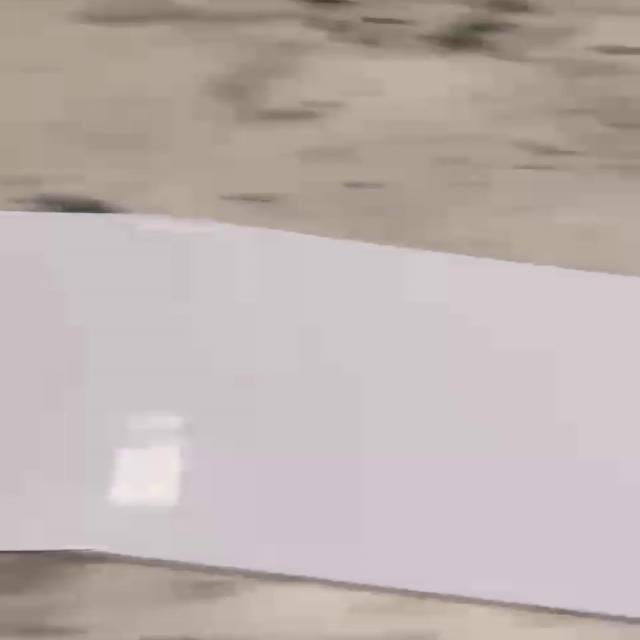road: (3, 212, 639, 615)
